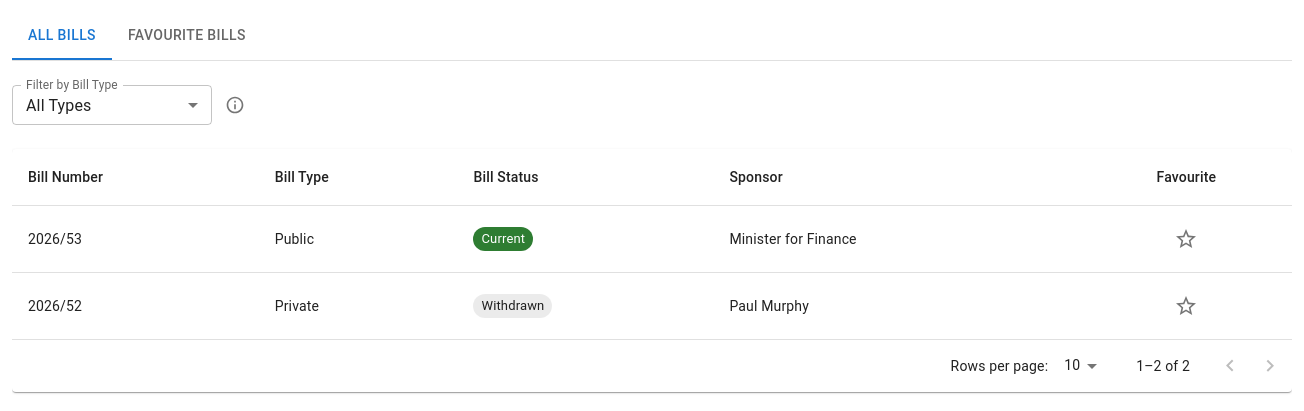
BillsPage › adds bill to favourites tab when starred
Expected: the text "2026/53" is shown, [12,206,259,272]
Click the button named "Add 2026/53 to favourites". click: (1186, 239)
box: [1169,222,1203,256]
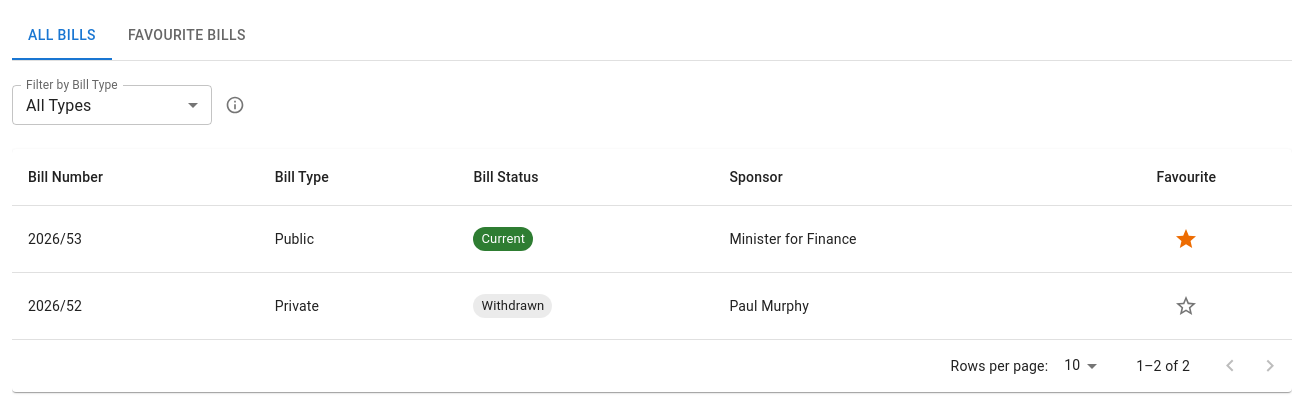
Click the tab "Favourite Bills". click: (187, 36)
box: [112,12,262,60]
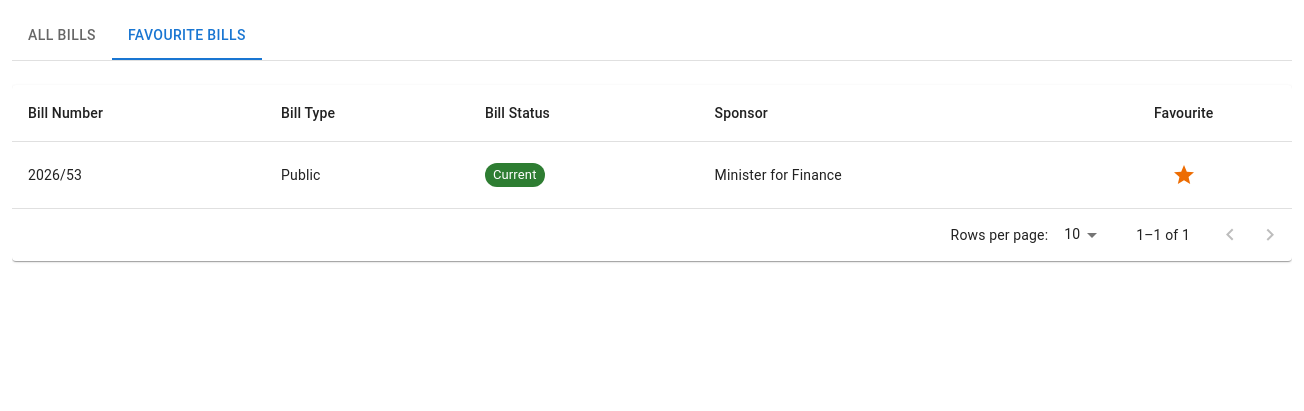
Expected: the text "2026/53" is shown, [12,142,265,208]
Expected: the text "2026/52" is gone
